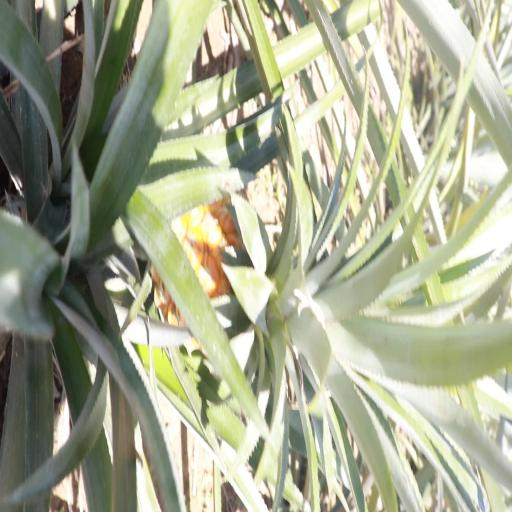Pineapple - v8 v1: (160, 189, 365, 382)
